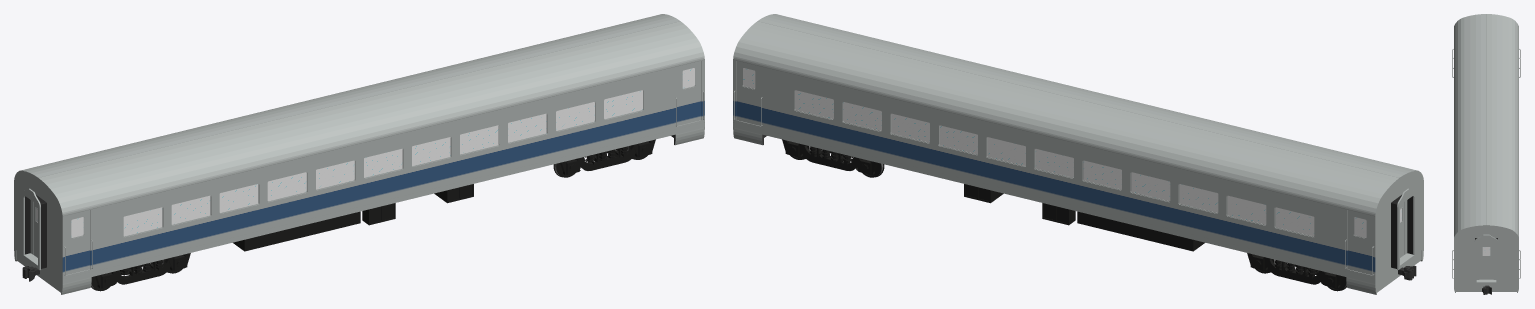
File: commuter_trailer.obj
3 views of the same model, side by side, from view 1: azimuth 30°, elevation 25°; view 2: azimuth 150°, elevation 25°; view 3: azimuth 270°, elevation 25° (orthographic). The views are drawn at different scales.
Visible parts, largest first — view 1: FRAME_Roof, FRAME_mainbody, GLASS, FRAME, FRAME_doors, FRAME_front, undercarshit, windowframes, gangway, BOGEY_FRONT, BOGEY_REAR; view 2: FRAME_Roof, FRAME_mainbody, GLASS, FRAME, FRAME_doors, FRAME_front, undercarshit, windowframes, gangway, BOGEY_FRONT, BOGEY_REAR; view 3: FRAME_Roof, FRAME_front, FRAME, obj2, gangway, obj1, couplers, GLASS.
Part boxes in pixels (left/top/right/bottom): FRAME_Roof: left=21, top=14, right=704, bottom=215; FRAME_mainbody: left=62, top=59, right=704, bottom=278; GLASS: left=36, top=68, right=694, bottom=237; FRAME: left=14, top=122, right=704, bottom=294; FRAME_doors: left=65, top=61, right=701, bottom=274; FRAME_front: left=14, top=170, right=62, bottom=278; undercarshit: left=233, top=184, right=473, bottom=251; windowframes: left=35, top=67, right=695, bottom=238; gangway: left=22, top=188, right=46, bottom=269; BOGEY_FRONT: left=95, top=253, right=190, bottom=288; BOGEY_REAR: left=560, top=139, right=655, bottom=174; FRAME_Roof: left=733, top=14, right=1416, bottom=215; FRAME_mainbody: left=733, top=59, right=1375, bottom=278; GLASS: left=743, top=68, right=1401, bottom=237; FRAME: left=733, top=122, right=1423, bottom=294; FRAME_doors: left=736, top=61, right=1372, bottom=274; FRAME_front: left=1375, top=170, right=1423, bottom=278; undercarshit: left=964, top=184, right=1204, bottom=251; windowframes: left=742, top=67, right=1402, bottom=238; gangway: left=1391, top=188, right=1415, bottom=269; BOGEY_FRONT: left=1247, top=253, right=1342, bottom=288; BOGEY_REAR: left=782, top=139, right=877, bottom=174; FRAME_Roof: left=1454, top=14, right=1518, bottom=236; FRAME_front: left=1454, top=225, right=1518, bottom=281; FRAME: left=1454, top=281, right=1518, bottom=292; obj2: left=1479, top=241, right=1493, bottom=279; gangway: left=1474, top=234, right=1498, bottom=284; obj1: left=1452, top=49, right=1520, bottom=278; couplers: left=1482, top=285, right=1491, bottom=294; GLASS: left=1482, top=247, right=1490, bottom=255.
Bounding box in the file's own units: 25 × 4.2 × 3.29.
Materials: 3 (3 with a texture image).
